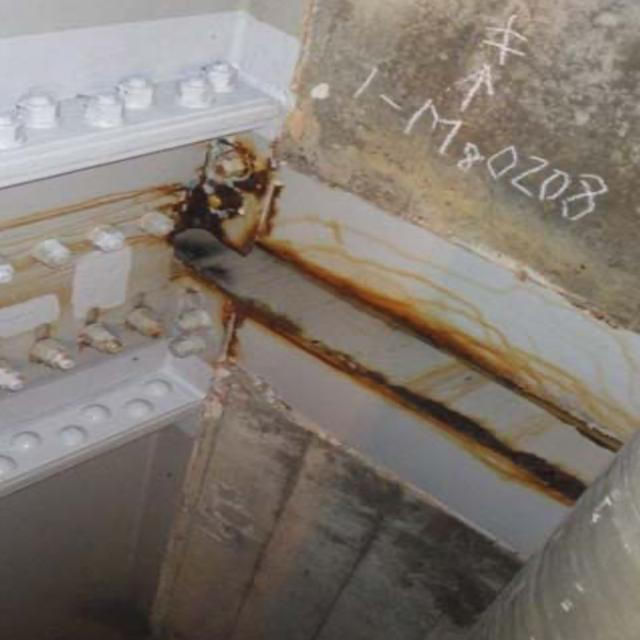corrosion: (157, 144, 624, 509)
